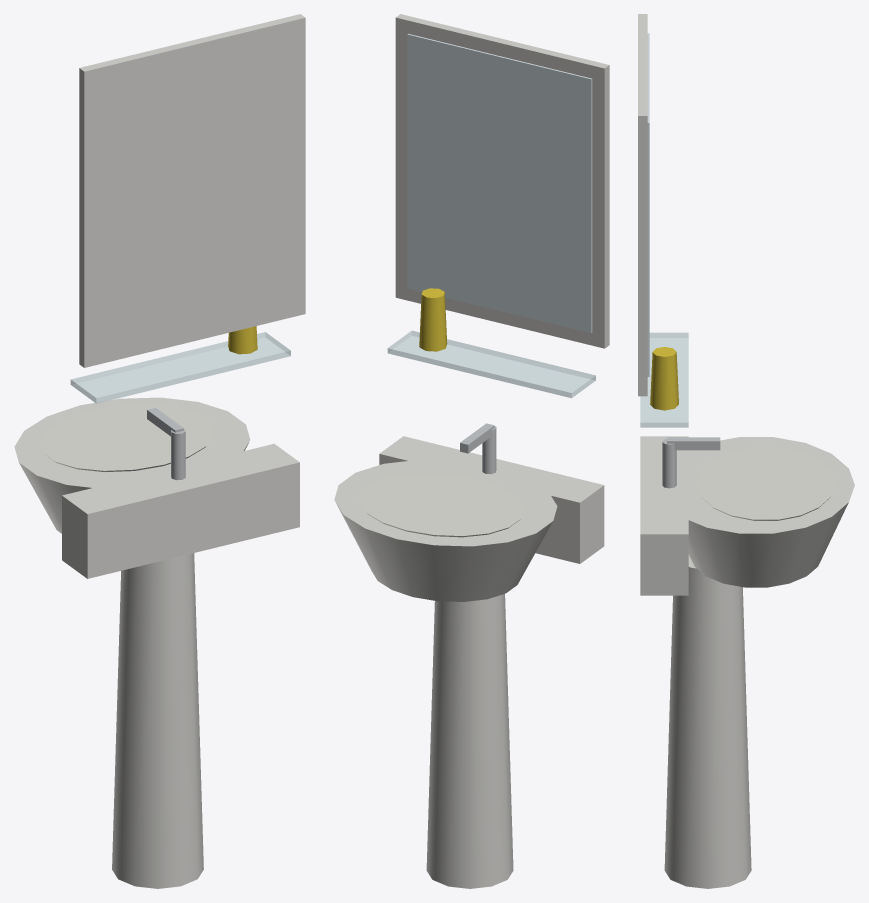
File: basin.obj
The picture shows the model from 3 angles, left to right: view 1: azimuth 30°, elevation 25°; view 2: azimuth 150°, elevation 25°; view 3: azimuth 270°, elevation 25°; orthographic projection. The views are drawn at different scales.
Visible parts, largest first — view 1: basin_6, basin_0, basin_2, basin_3, basin_1, basin_8, basin_4, basin_9; view 2: basin_7, basin_0, basin_1, basin_6, basin_3, basin_2, basin_8, basin_9, basin_4; view 3: basin_0, basin_1, basin_3, basin_2, basin_6, basin_8, basin_9, basin_7, basin_5, basin_4.
Boxes of the visible parts, x1,y1,x2,y2 form: basin_6: (79,14,305,367); basin_0: (112,553,203,888); basin_2: (62,443,299,578); basin_3: (40,404,214,471); basin_1: (14,397,250,533); basin_8: (70,332,290,403); basin_4: (171,429,185,480); basin_9: (228,326,257,354); basin_7: (407,33,592,332); basin_0: (426,594,513,888); basin_1: (334,460,557,601); basin_6: (395,14,609,348); basin_3: (358,473,523,537); basin_2: (379,436,604,563); basin_8: (387,330,595,398); basin_9: (419,288,447,351); basin_4: (482,424,496,474); basin_0: (664,554,751,888); basin_1: (658,437,854,587); basin_3: (696,447,835,520); basin_2: (640,436,688,595); basin_6: (638,14,647,396); basin_8: (640,332,688,427); basin_9: (650,347,678,410); basin_7: (647,33,649,376); basin_5: (667,437,720,450); basin_4: (662,439,676,488).
Size of the model in its own units: 0.5 by 1.84 by 0.449.
